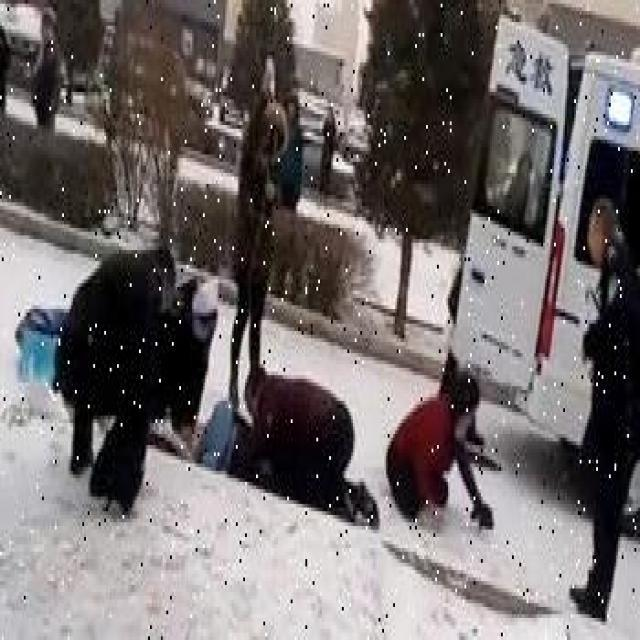fall: (243, 368, 382, 522), (392, 361, 492, 534)
